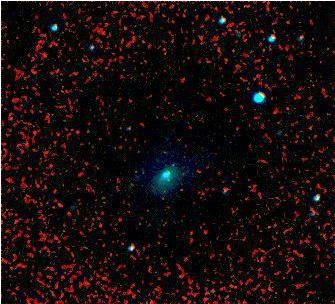star: (156, 148, 186, 178)
